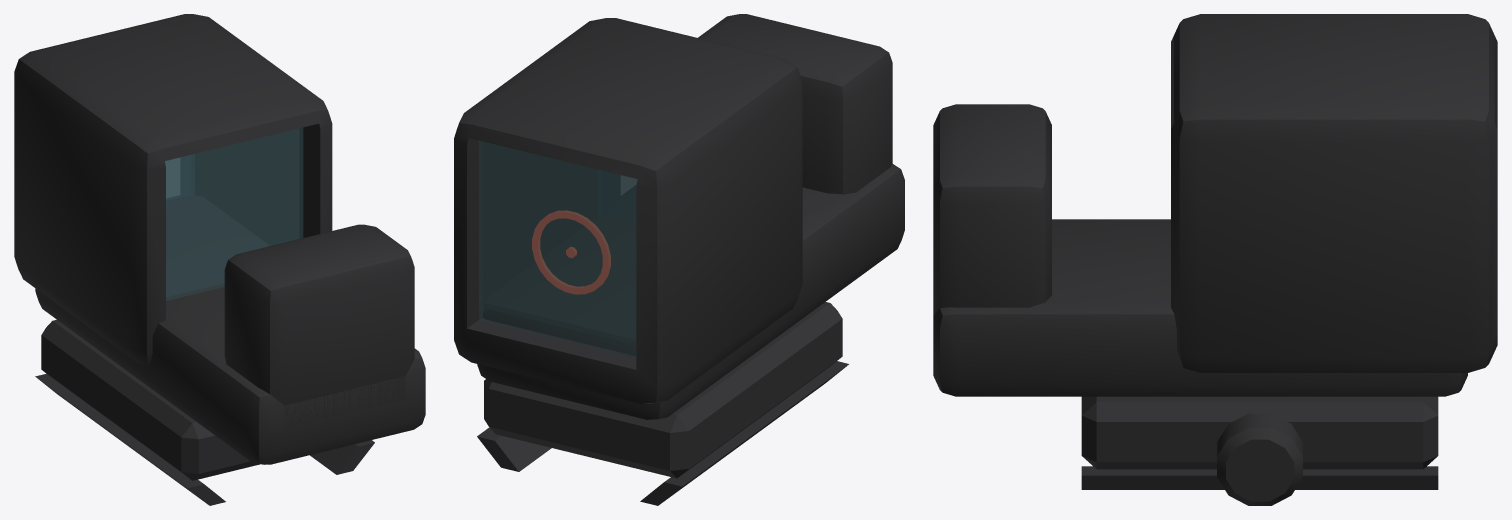
The model's file is ATT_Holo.glb.
3 renders of one model, left to right at view 1: azimuth 30°, elevation 25°; view 2: azimuth 150°, elevation 25°; view 3: azimuth 270°, elevation 25°, orthographic. The views are drawn at different scales.
Parts seen in each view (by area): view 1: Body, Glass; view 2: Body, Glass, Reticle; view 3: Body.
Boxes of the visible parts, bbox=[...] form: Body: bbox=[14, 14, 425, 505]; Glass: bbox=[165, 127, 303, 300]; Body: bbox=[454, 14, 904, 505]; Glass: bbox=[479, 140, 637, 357]; Reticle: bbox=[532, 210, 610, 294]; Body: bbox=[933, 14, 1497, 505].
Bounding box in the file's own units: 0.21 × 0.29 × 0.38.
